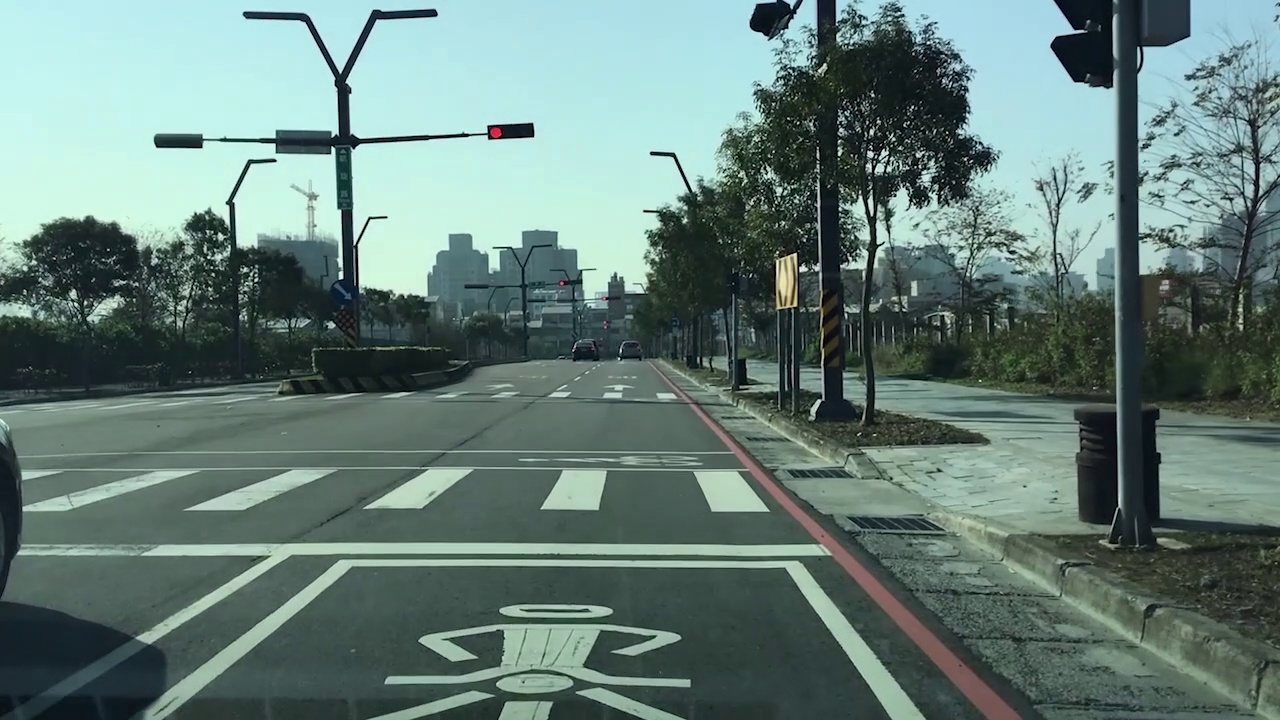Pedestrian_Crossing: (10, 461, 771, 518)
